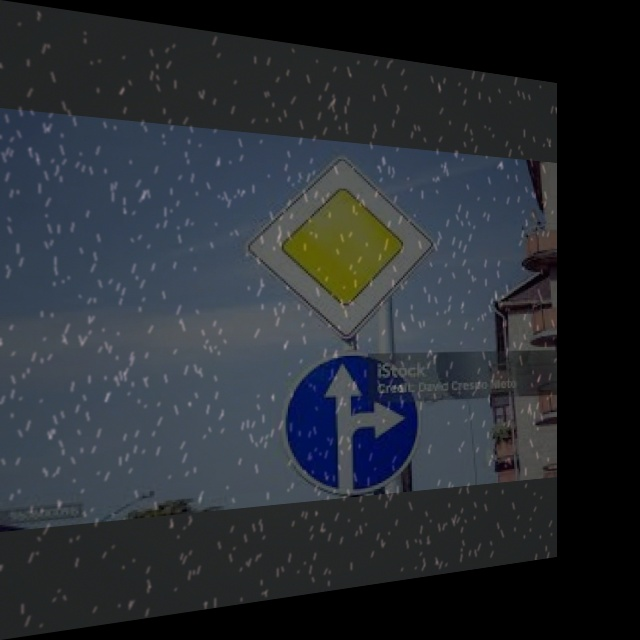Compulsory_Ahead_or_Turn_Right: (284, 352, 414, 496)
